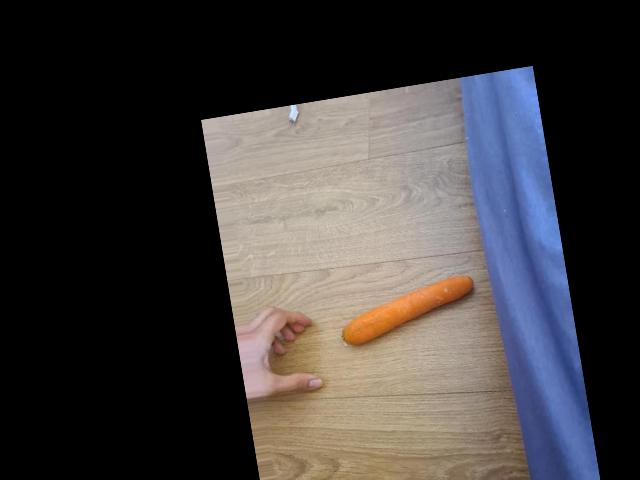carrot: (336, 275, 481, 346)
